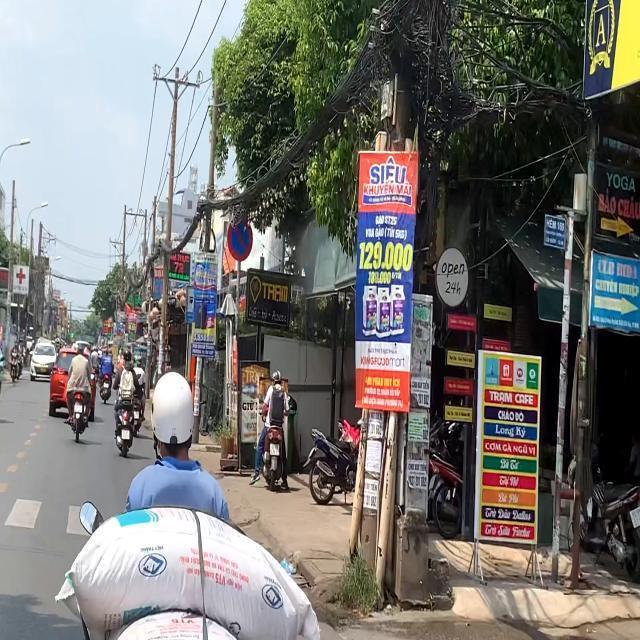131a-cam-do-xe: (227, 217, 254, 258)
